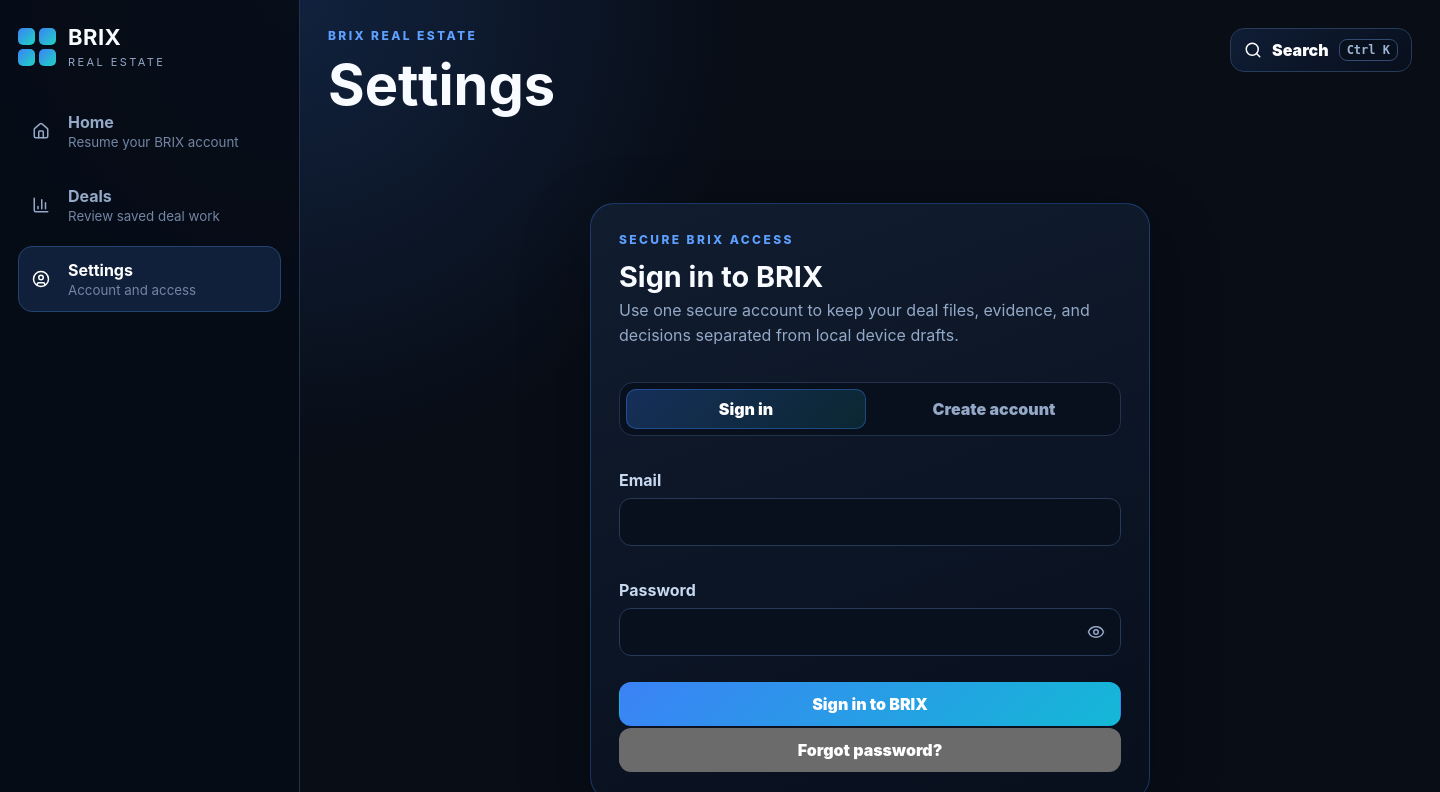
Test: BRIX app module flow › prevents duplicate sign-in submissions while authentication is in flight
Expected: the heading "Sign in to BRIX" is shown, [619, 259, 823, 294]
Type "edhemmer@gmail.com" into the field labelled "Email" at (870, 522), box [619, 498, 1121, 546]
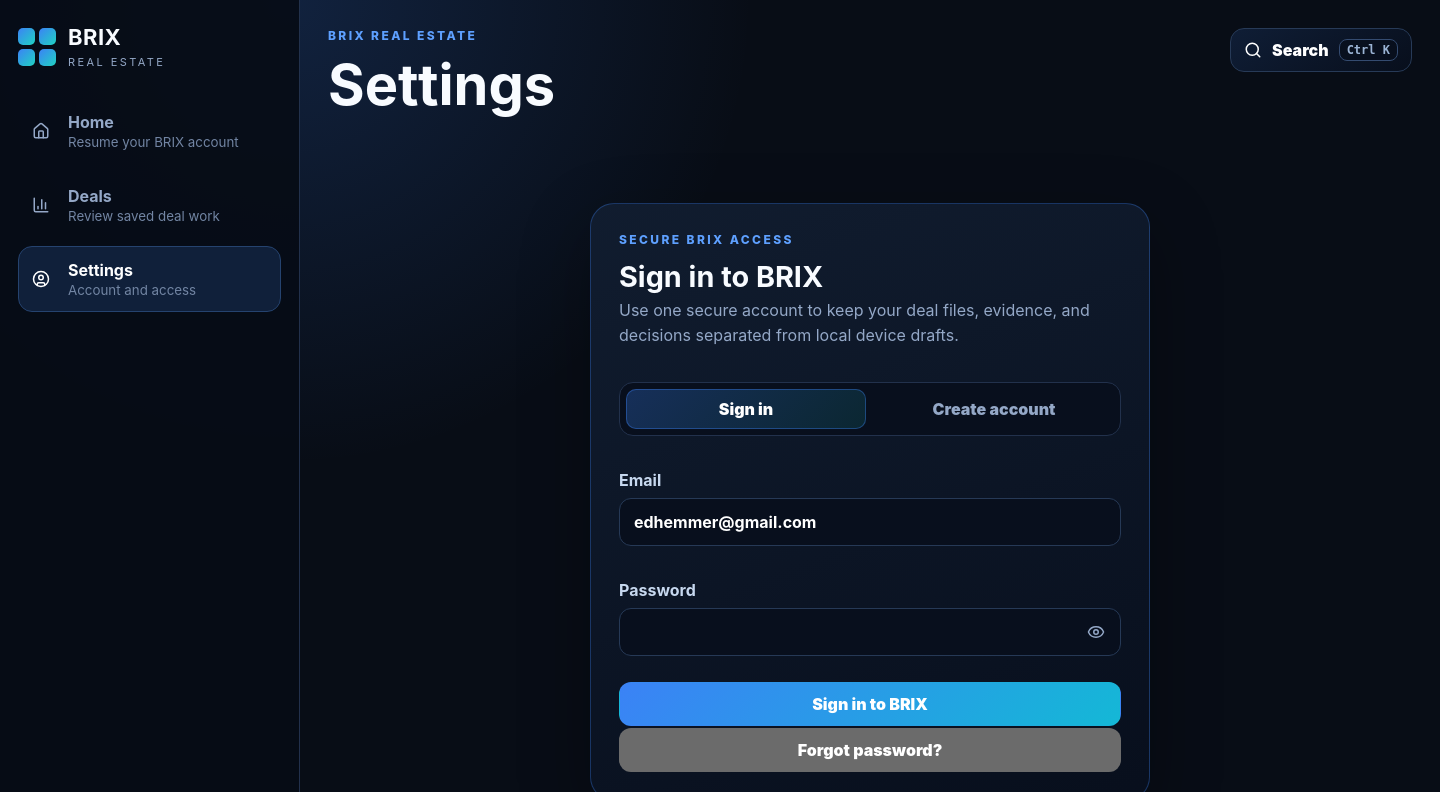
Type "inlight" into the password field labelled "Password" at (870, 632), box [619, 608, 1121, 656]
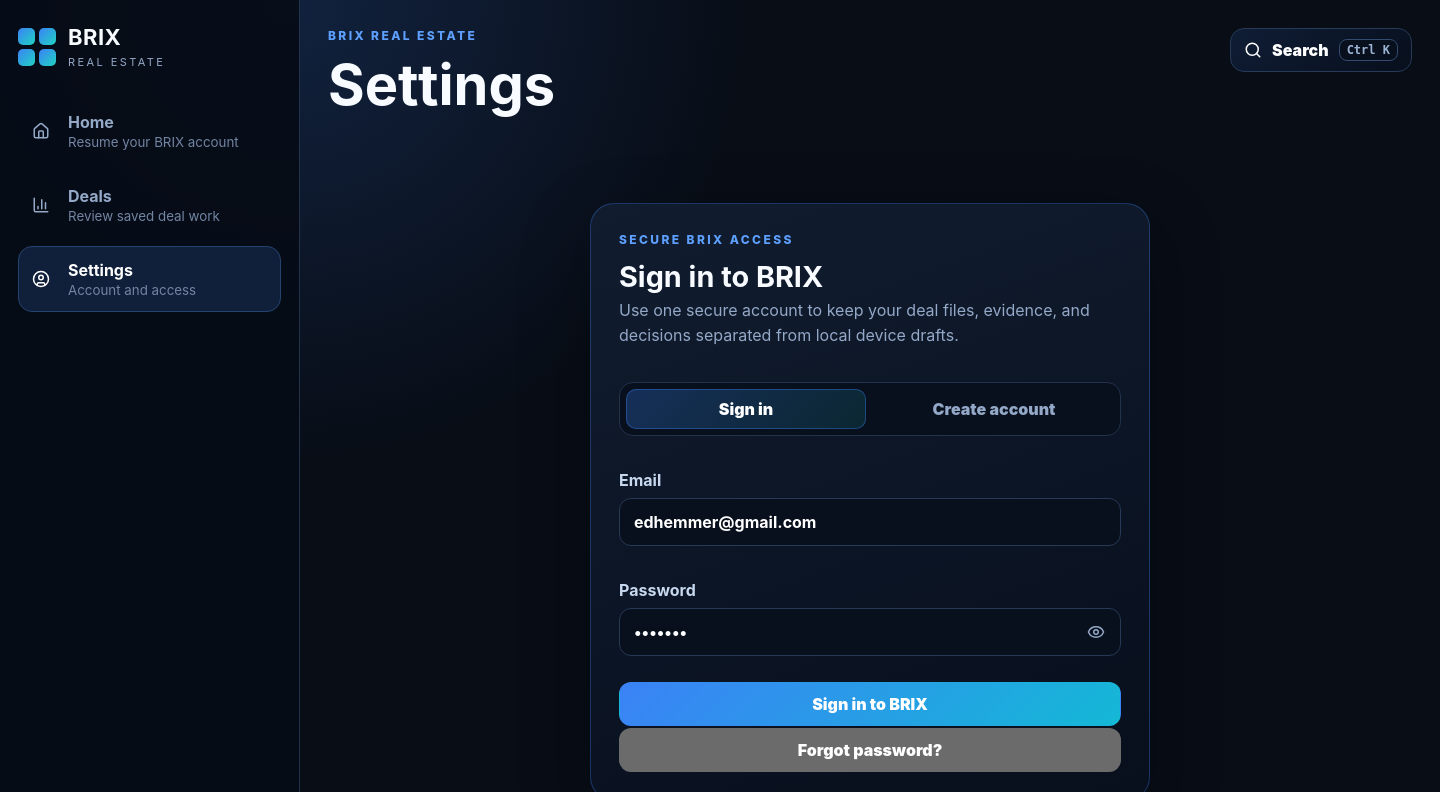
Click the button "Sign in to BRIX" at (870, 704), box [619, 682, 1121, 726]
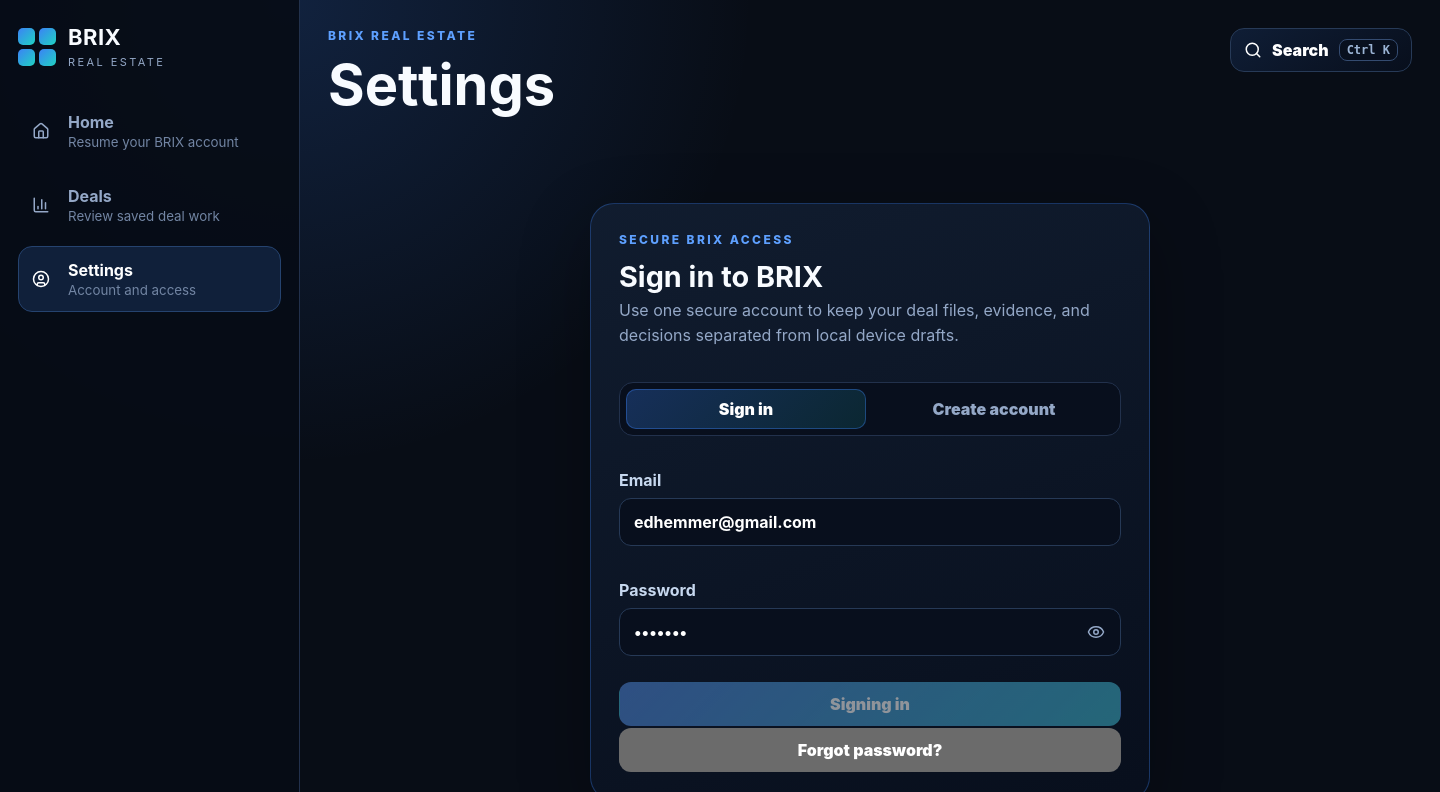
Click the button named "Sign in to BRIX" at (870, 704), box [619, 682, 1121, 726]
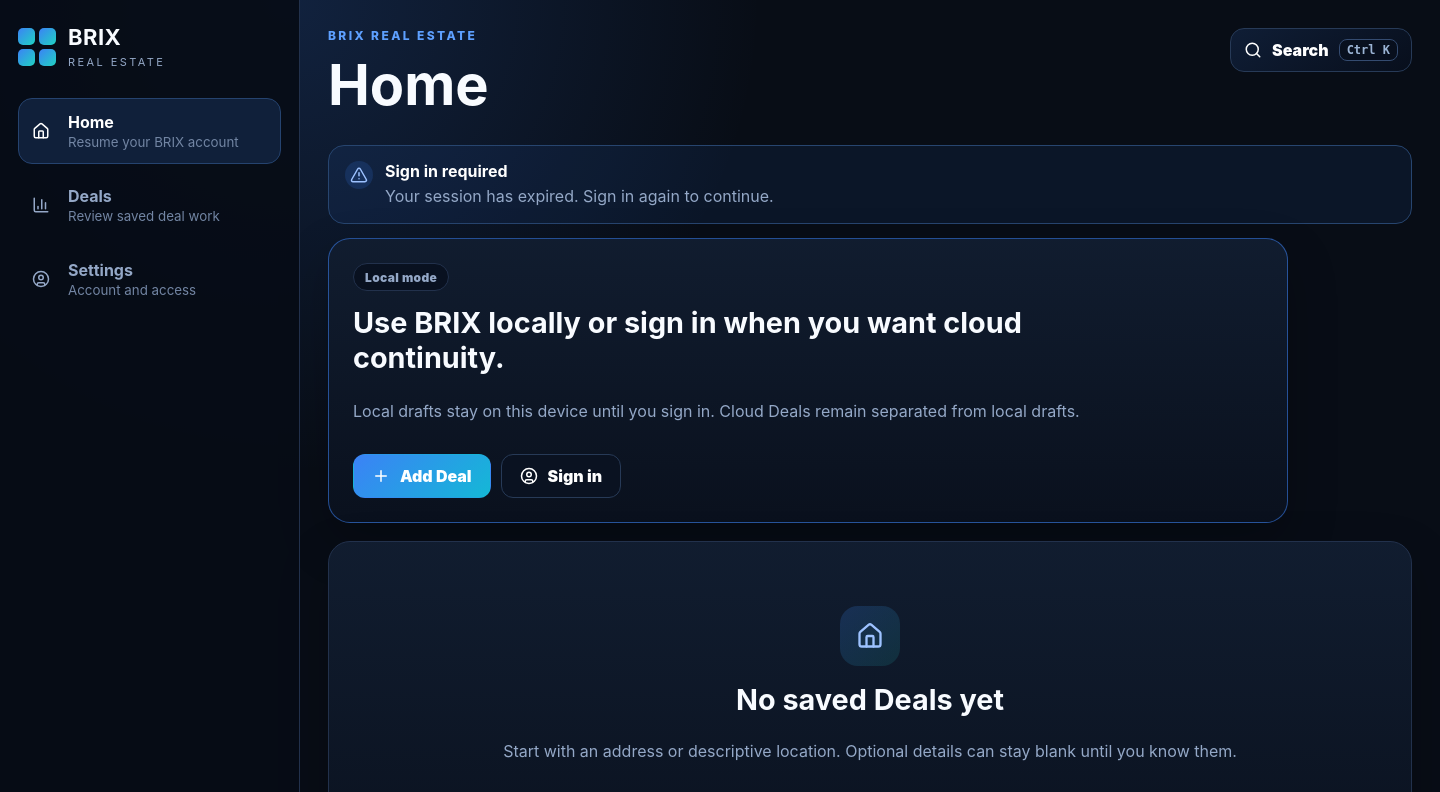
Expected: the heading "Home" is shown, [328, 51, 489, 119]
